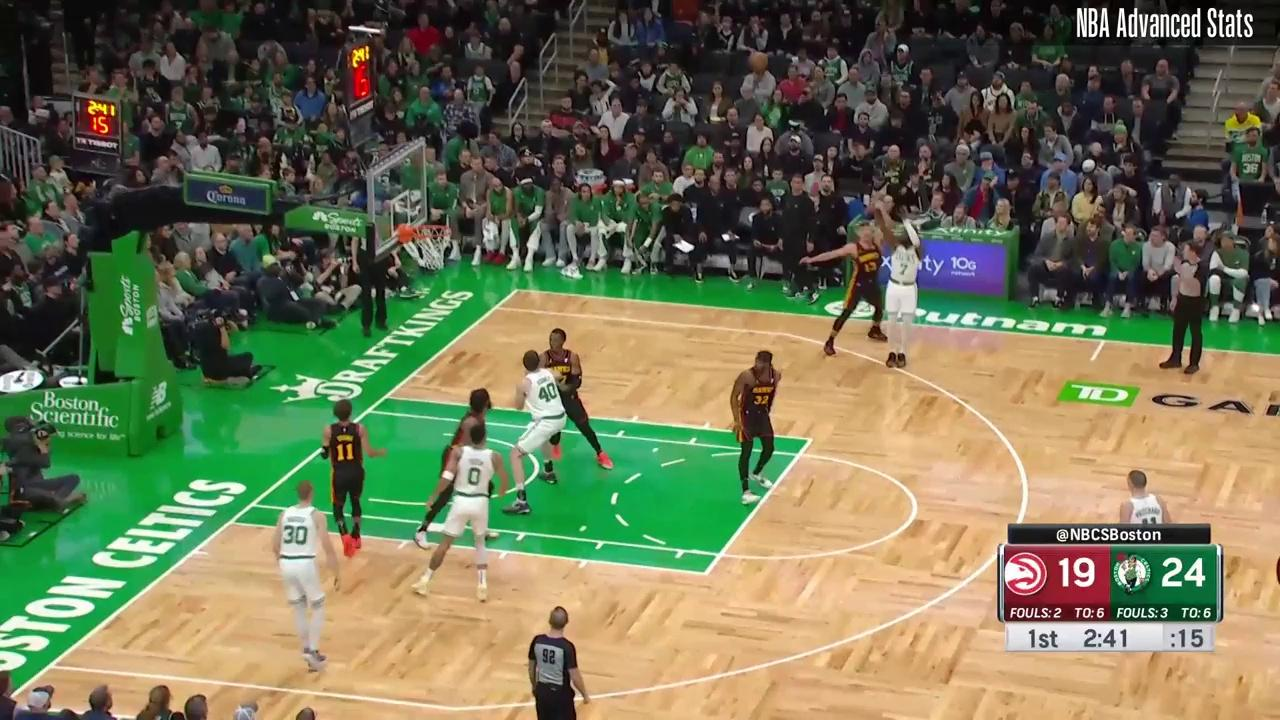3_dx: (489, 301, 505, 313)
3_sx: (43, 659, 57, 673)
b_dx: (510, 283, 526, 297)
free_adx: (801, 434, 817, 448)
free_asx: (698, 564, 713, 582)
free_bdx: (379, 391, 391, 403)
free_bsx: (223, 516, 238, 530)
mid_sx: (1083, 351, 1101, 367)
referee: (527, 606, 588, 720), (1160, 240, 1210, 375), (358, 198, 397, 336)
team: (415, 425, 506, 602), (270, 481, 341, 672), (504, 350, 569, 517), (873, 202, 927, 368), (1118, 470, 1175, 528)
team1: (414, 386, 501, 547), (803, 194, 890, 354), (535, 327, 611, 471), (319, 399, 388, 554), (731, 351, 782, 504)
timer: (1081, 625, 1132, 652)
